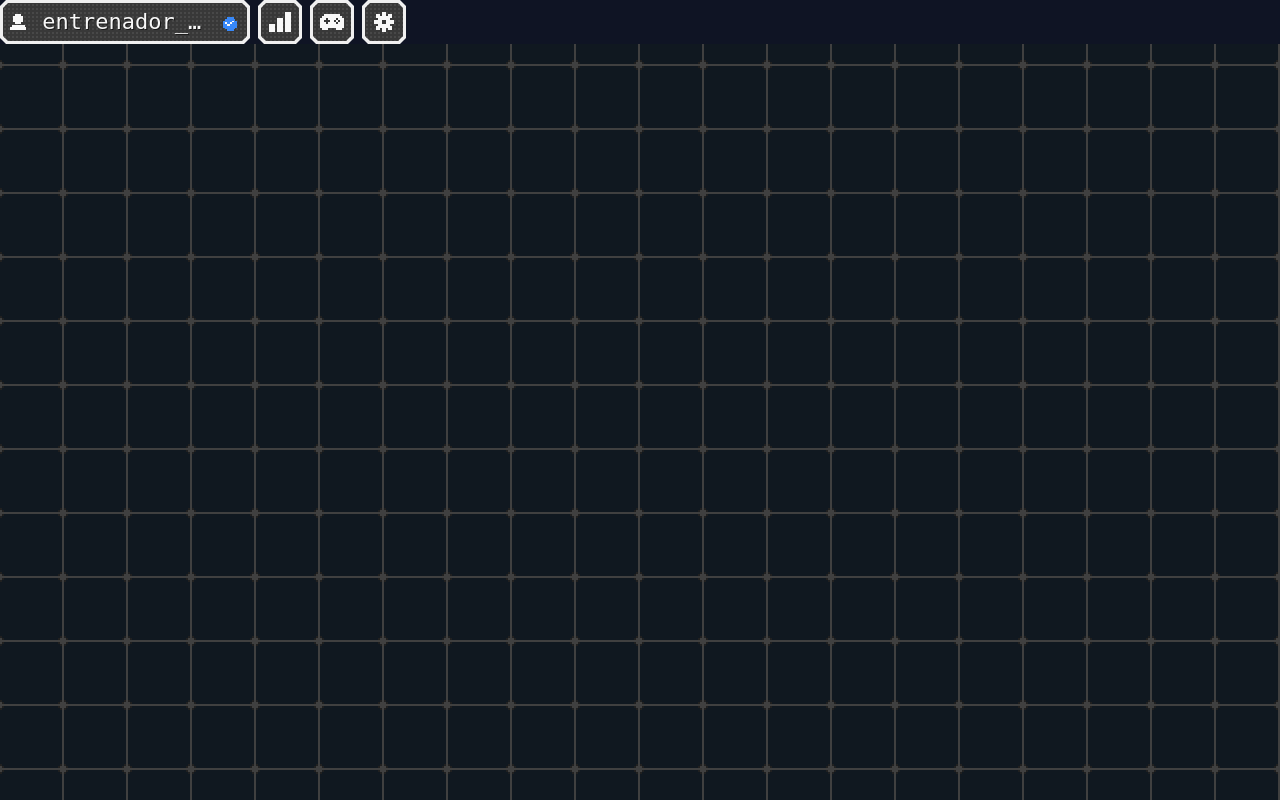
aviso por Discord (UT-142) › con cuenta, Cuenta ofrece conectar Discord
Step 1. Click the button with aria-label "Cuenta" → (125, 22), box [0, 0, 250, 44]
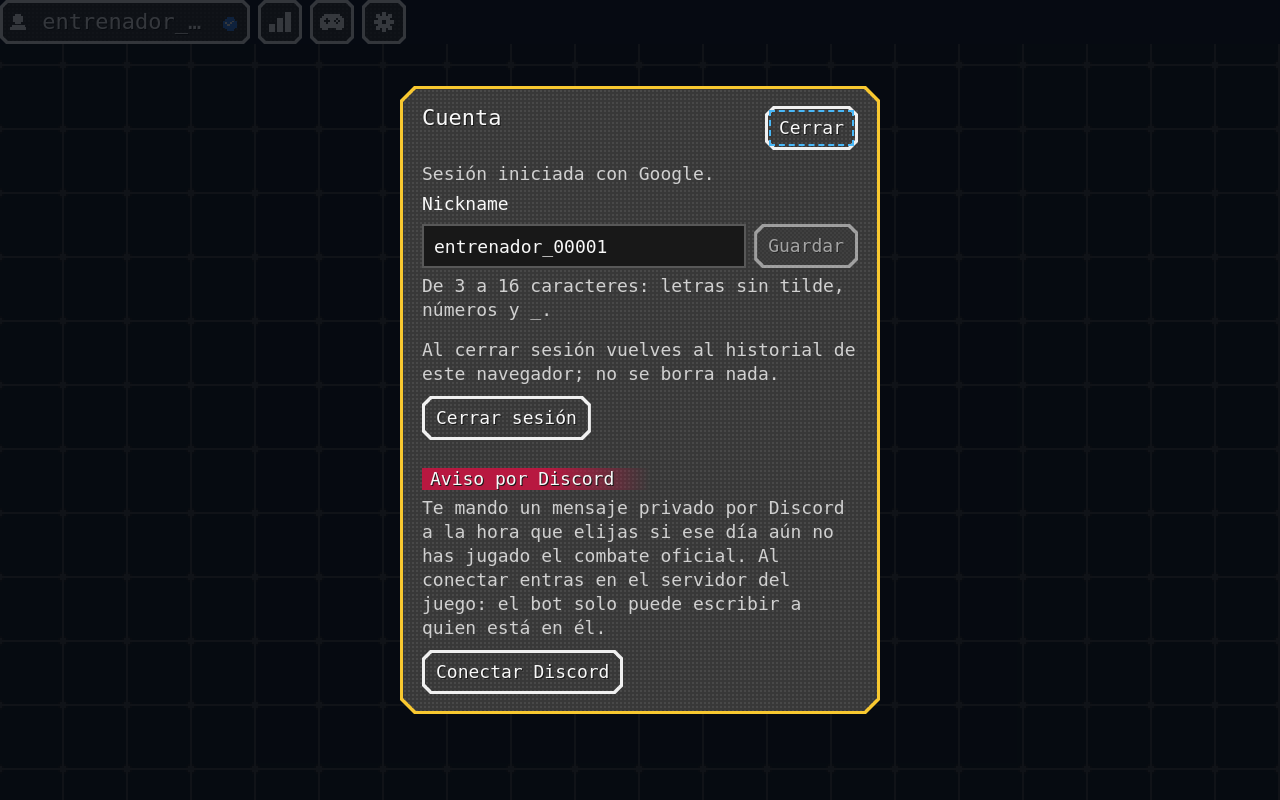
Now the heading "Aviso por Discord" is shown, box [422, 468, 650, 490]
Now the button "Conectar Discord" is shown, box [422, 650, 623, 694]
